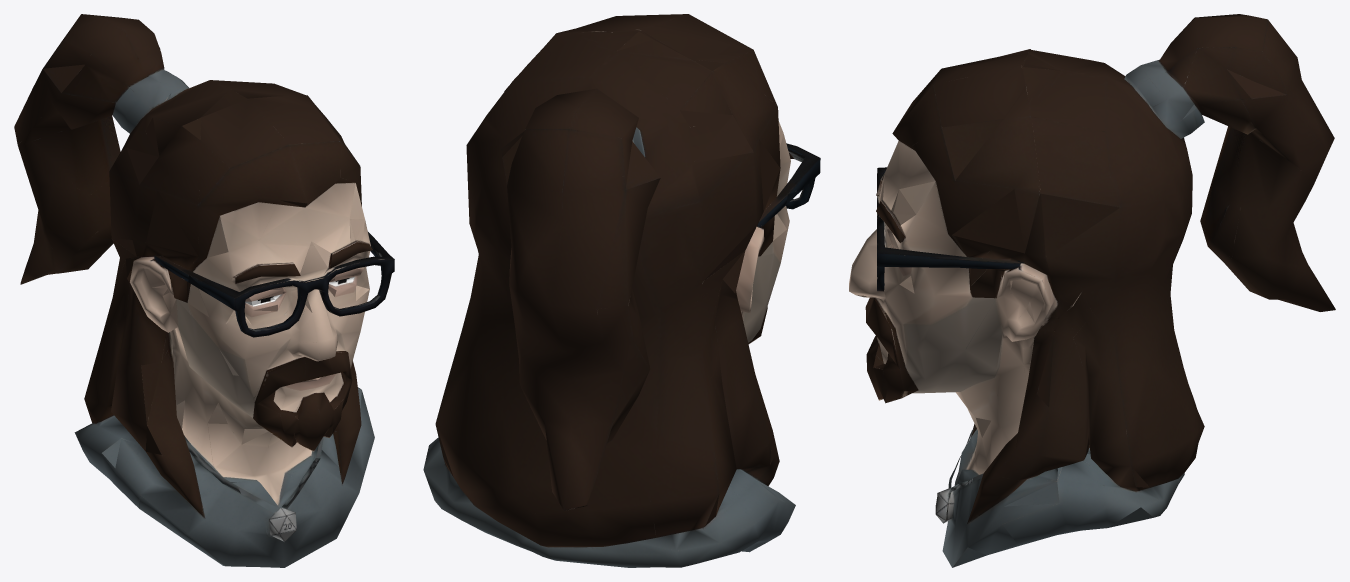
The model's file is DMHeadGM.fbx.
3 views of the same model, side by side, from view 1: azimuth 30°, elevation 25°; view 2: azimuth 150°, elevation 25°; view 3: azimuth 270°, elevation 25° (orthographic). The views are drawn at different scales.
Parts seen in each view (by area): view 1: Mesh_0; view 2: Mesh_0; view 3: Mesh_0.
Part boxes in pixels (left/top/right/bottom): Mesh_0: left=14, top=14, right=394, bottom=567; Mesh_0: left=423, top=14, right=820, bottom=567; Mesh_0: left=849, top=14, right=1335, bottom=567.
Size of the model in its own units: 112 by 190 by 165.
Materials: 1 (1 with a texture image).
